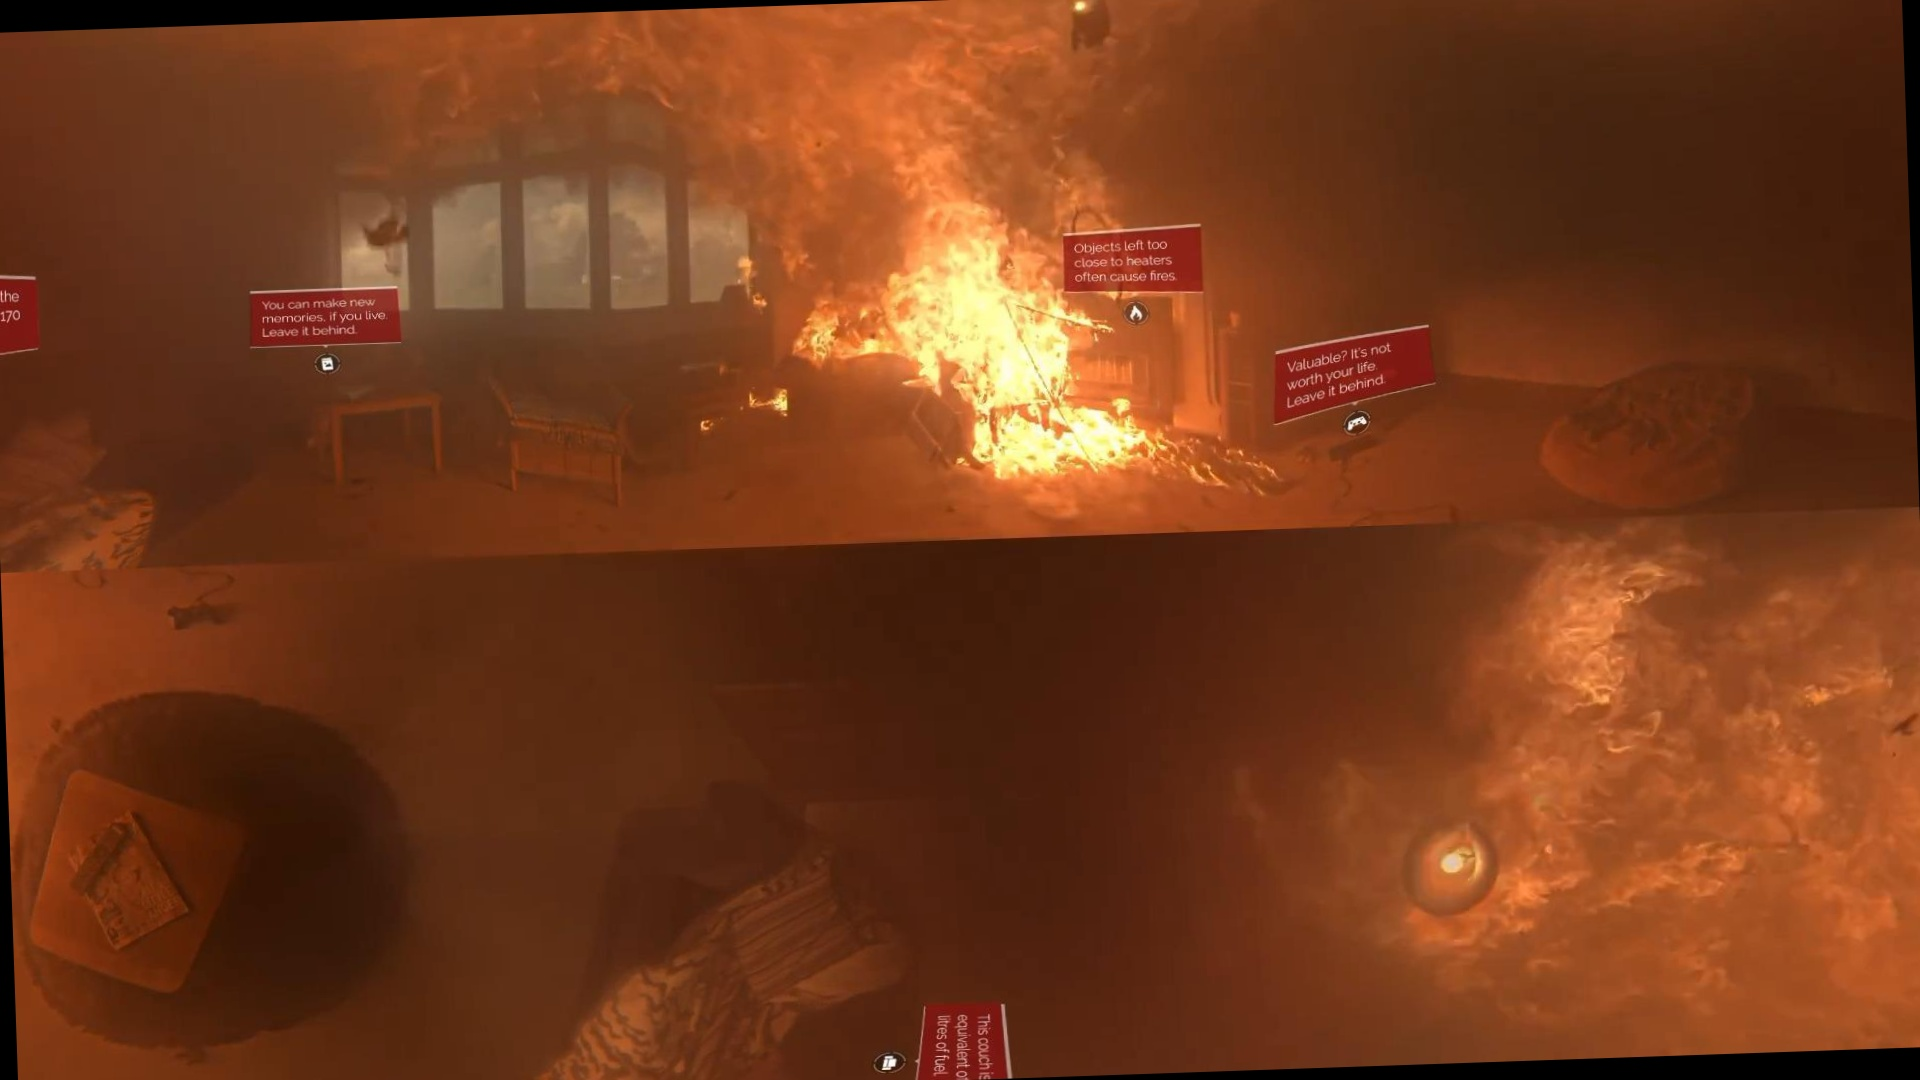fire: (634, 0, 1185, 488)
